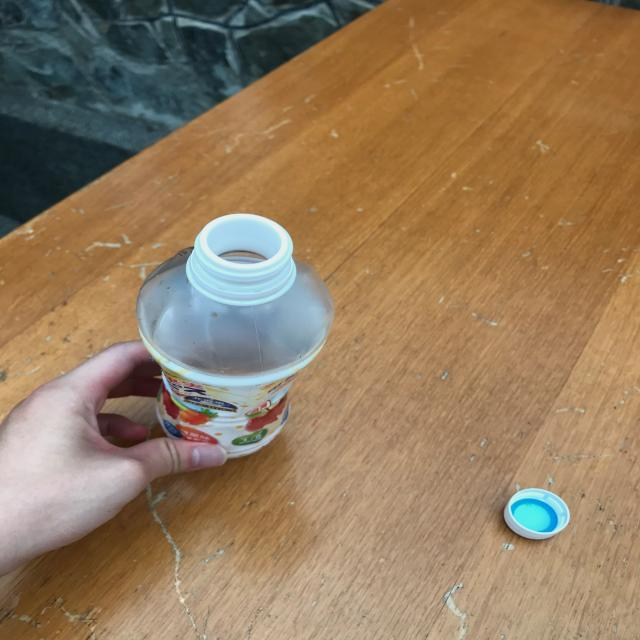plastic_bottle: (136, 214, 334, 458)
